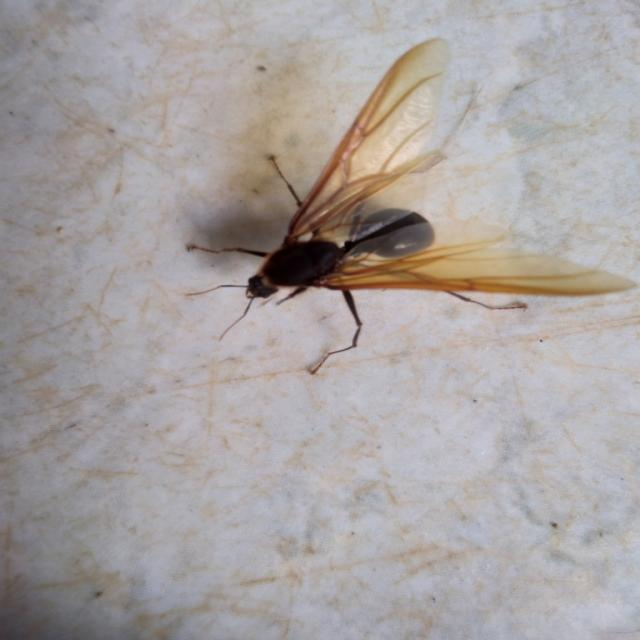Alive-Male-Alate: (182, 37, 640, 375)
